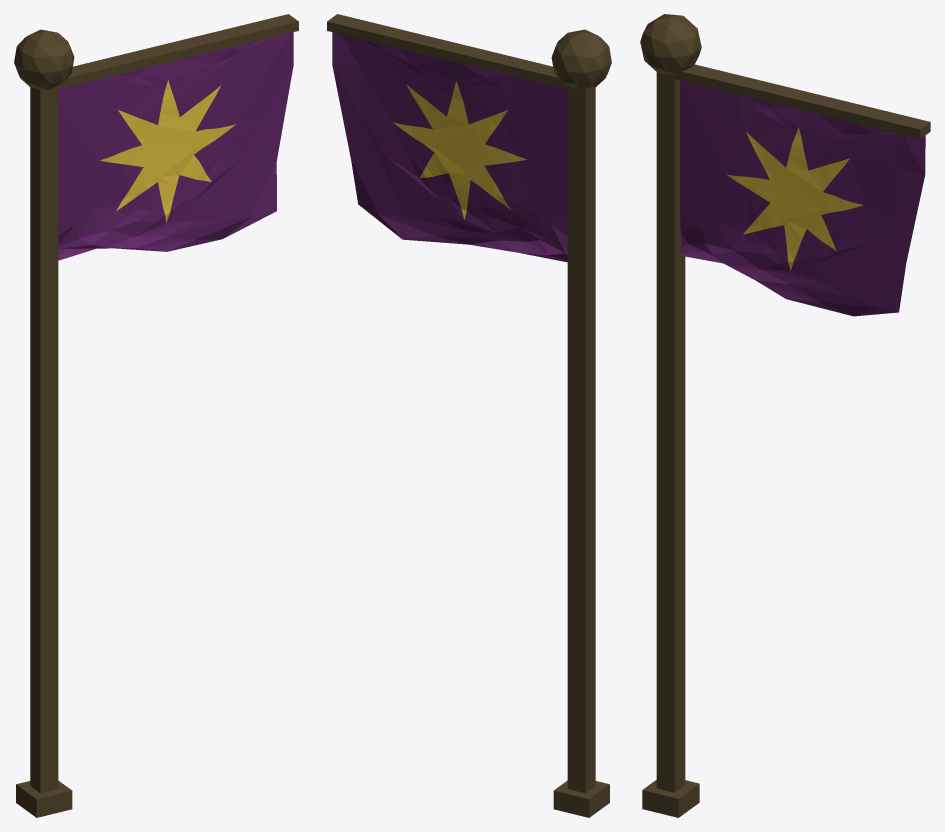
Rendered from fantasy_flag_1.fbx.
3 views of the same model, side by side, from view 1: azimuth 30°, elevation 25°; view 2: azimuth 150°, elevation 25°; view 3: azimuth 330°, elevation 25° (orthographic). The views are drawn at different scales.
Parts seen in each view (by area): view 1: Plane.003, Cube.039; view 2: Plane.003, Cube.039; view 3: Plane.003, Cube.039.
Boxes of the visible parts, <box> form: Plane.003: <box>58,32,293,260</box>; Cube.039: <box>14,14,298,817</box>; Plane.003: <box>332,32,567,262</box>; Cube.039: <box>327,14,611,817</box>; Plane.003: <box>680,80,925,316</box>; Cube.039: <box>640,14,930,817</box>.
Size of the model in its own units: 154 by 415 by 30.
